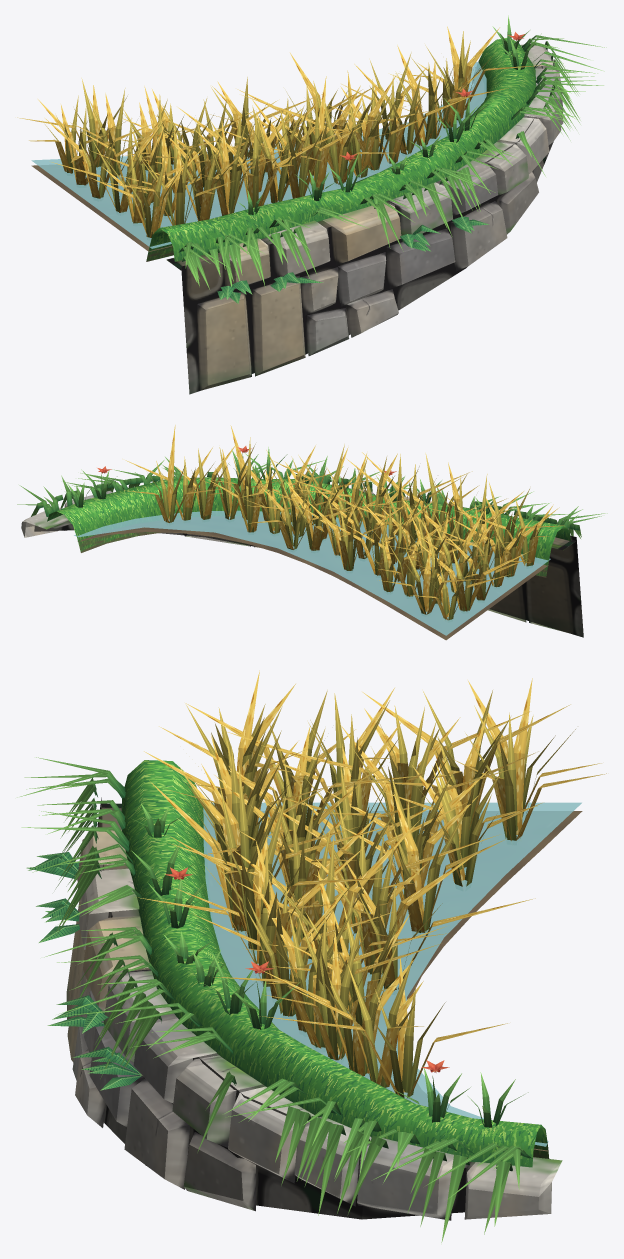
Rendered from terrace_cap_ripe.glb.
The picture shows the model from 3 angles, top to bottom: view 1: azimuth 30°, elevation 25°; view 2: azimuth 150°, elevation 25°; view 3: azimuth 270°, elevation 25°; orthographic projection. The views are drawn at different scales.
Parts seen in each view (by area): view 1: terrace_cap_ripe_plants, terrace_cap_ripe_wall, terrace_cap_ripe_dike, terrace_cap_ripe_water; view 2: terrace_cap_ripe_plants, terrace_cap_ripe_dike, terrace_cap_ripe_water, terrace_cap_ripe_wall; view 3: terrace_cap_ripe_plants, terrace_cap_ripe_wall, terrace_cap_ripe_dike, terrace_cap_ripe_water.
Boxes of the visible parts, box(x1,y1,x2,y2) form: terrace_cap_ripe_plants: box(17, 15, 606, 303); terrace_cap_ripe_wall: box(166, 44, 563, 394); terrace_cap_ripe_dike: box(31, 38, 536, 261); terrace_cap_ripe_water: box(31, 62, 486, 248); terrace_cap_ripe_plants: box(17, 425, 607, 620); terrace_cap_ripe_dike: box(47, 477, 570, 640); terrace_cap_ripe_water: box(74, 510, 550, 635); terrace_cap_ripe_wall: box(21, 490, 583, 637); terrace_cap_ripe_plants: box(17, 670, 606, 1242); terrace_cap_ripe_wall: box(66, 797, 562, 1220); terrace_cap_ripe_dike: box(121, 760, 582, 1167); terrace_cap_ripe_water: box(203, 802, 581, 1146).
Bounding box in the file's own units: 5.72 × 1.92 × 3.18.
4 materials, 3 textured.
